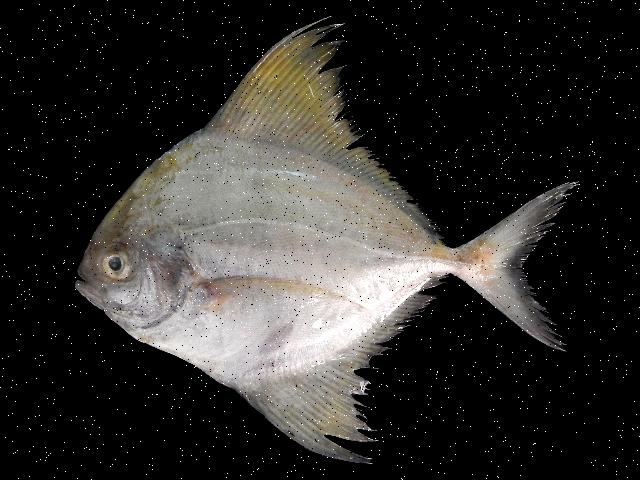Mulut: (60, 254, 108, 312)
Sirip Anal: (342, 262, 454, 360)
Sirip Dada: (172, 263, 370, 329)
Sirip Ekor: (458, 176, 590, 358)
Sirip Perut: (232, 360, 392, 476)
Sirip Punggung: (200, 12, 452, 248)
